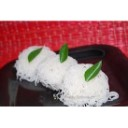idiyappam: (68, 63, 108, 107), (13, 45, 55, 79), (39, 55, 79, 87)
